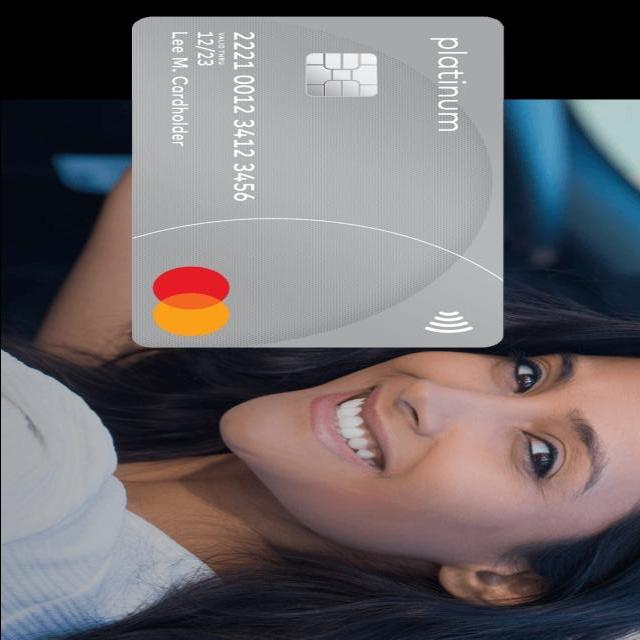card: (132, 14, 500, 352)
